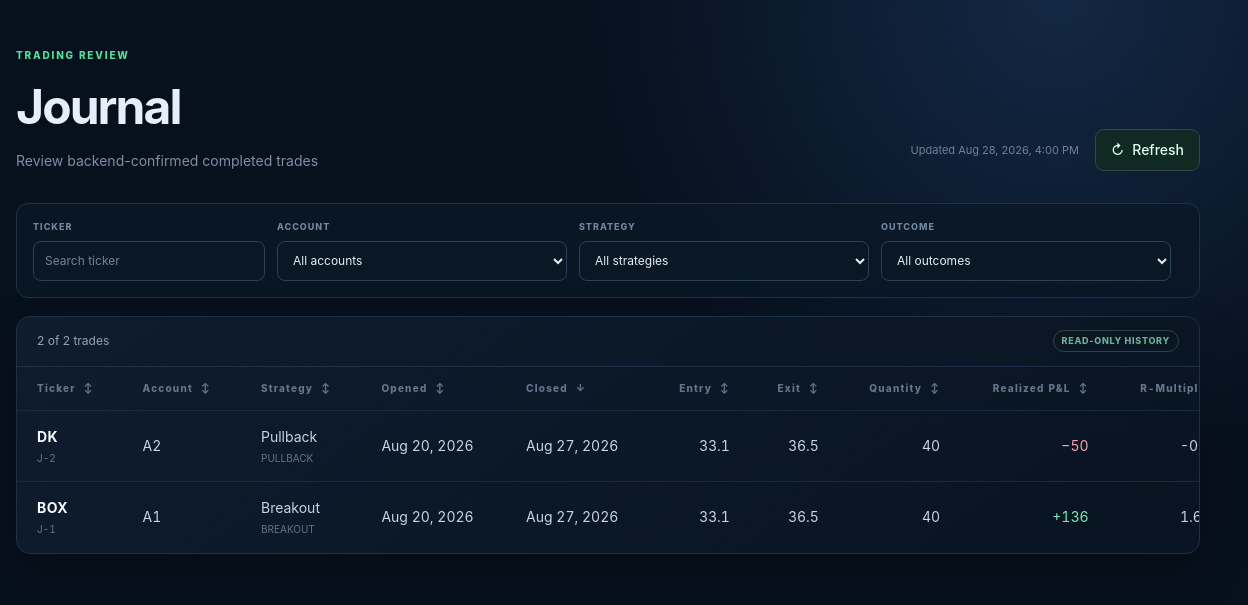
Test: Journal › filters the loaded projection by ticker, account, strategy and outcome
This screenshot has width=1248, height=605.
Expected: the text "BOX" is shown, [37, 499, 68, 516]
Type "bo" into the search field with placeholder "Search ticker" at (149, 260), box [33, 240, 265, 280]
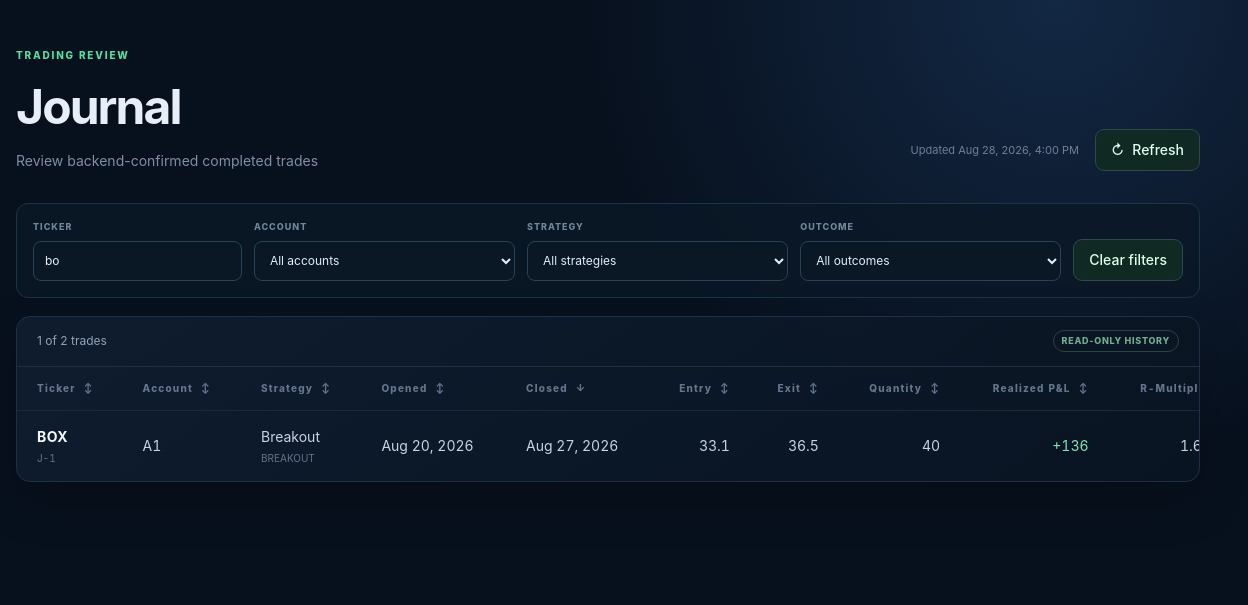
Expected: the text "BOX" is shown, [37, 428, 68, 445]
Now the text "DK" is gone
Click the button "Clear filters" at (1128, 260), box [1073, 238, 1183, 280]
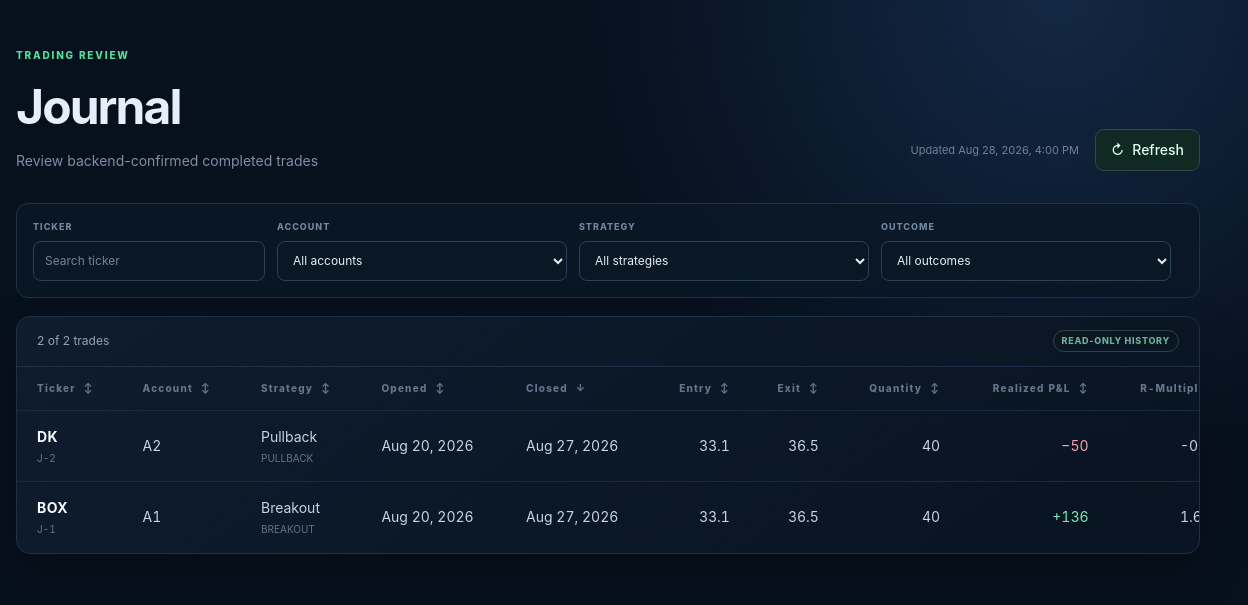
Select "Losses" in the dropdown labelled "Outcome" at (1026, 260), box [881, 240, 1171, 280]
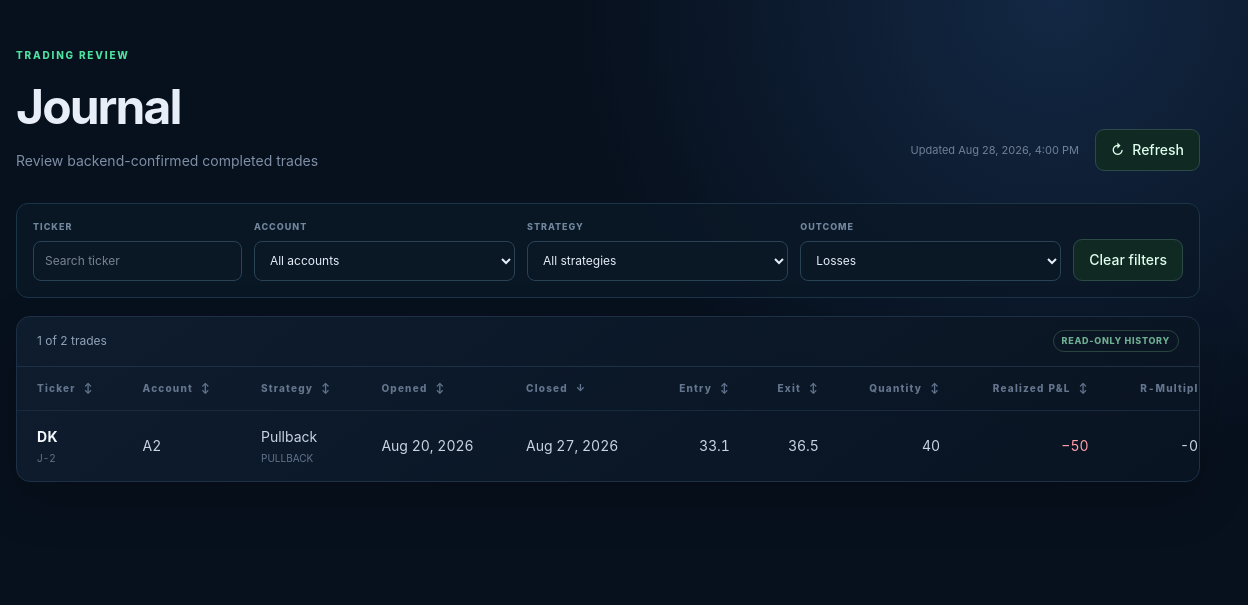
Now the text "DK" is shown, box [37, 428, 58, 445]
Now the text "BOX" is gone
Select "A1" in the dropdown labelled "Account" at (384, 260), box [254, 240, 515, 280]
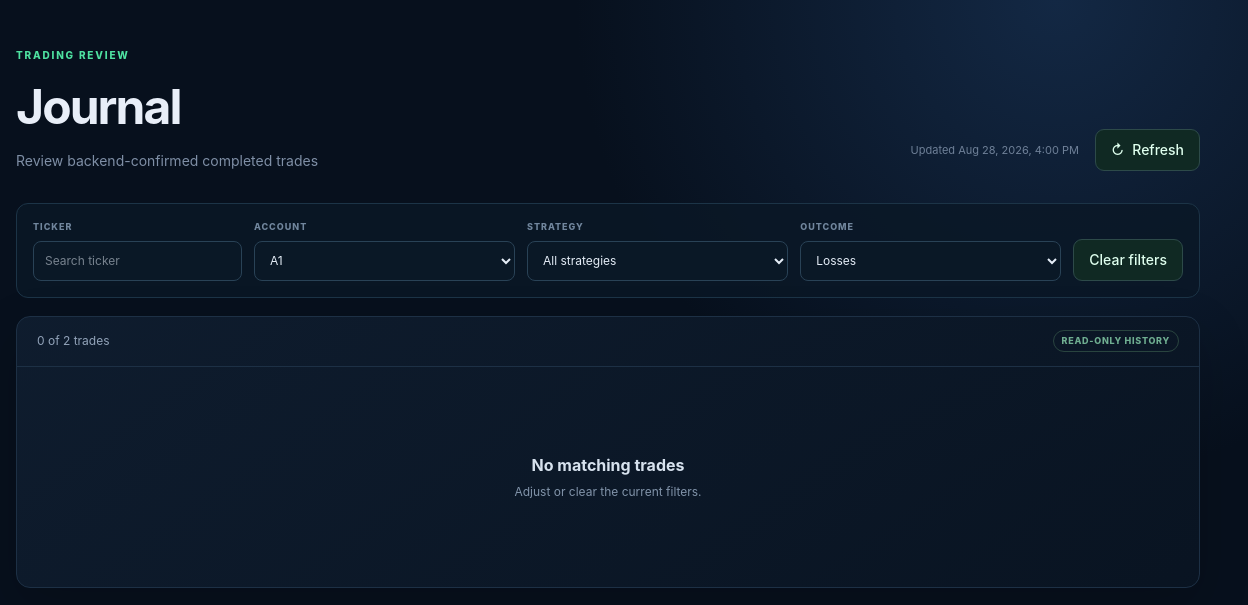
Now the text "No matching trades" is shown, box [532, 455, 684, 475]
Click the button "Clear filters" at (1128, 260), box [1073, 238, 1183, 280]
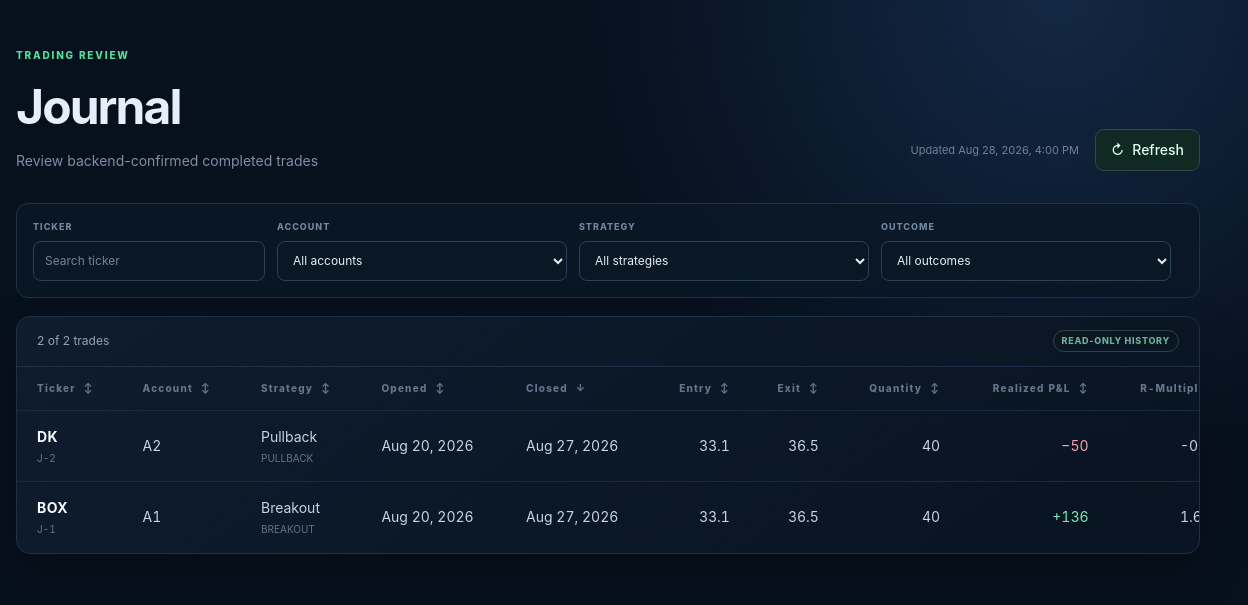
Select "Breakout" in the dropdown labelled "Strategy" at (724, 260), box [579, 240, 869, 280]
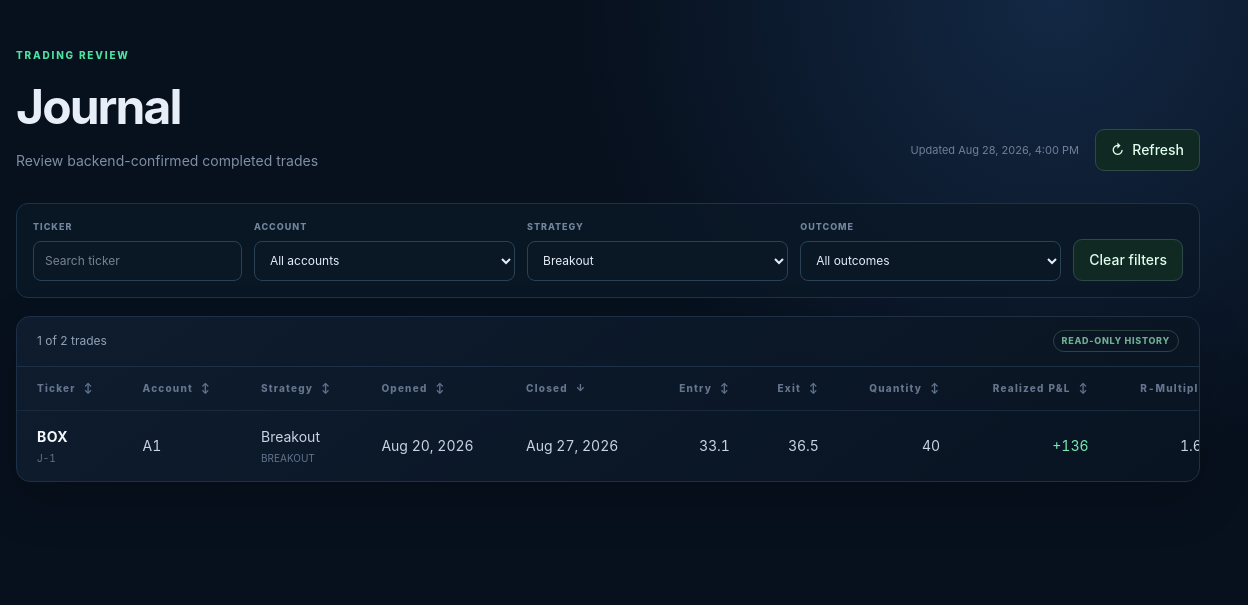
Now the text "BOX" is shown, box [37, 428, 68, 445]
Now the text "DK" is gone
